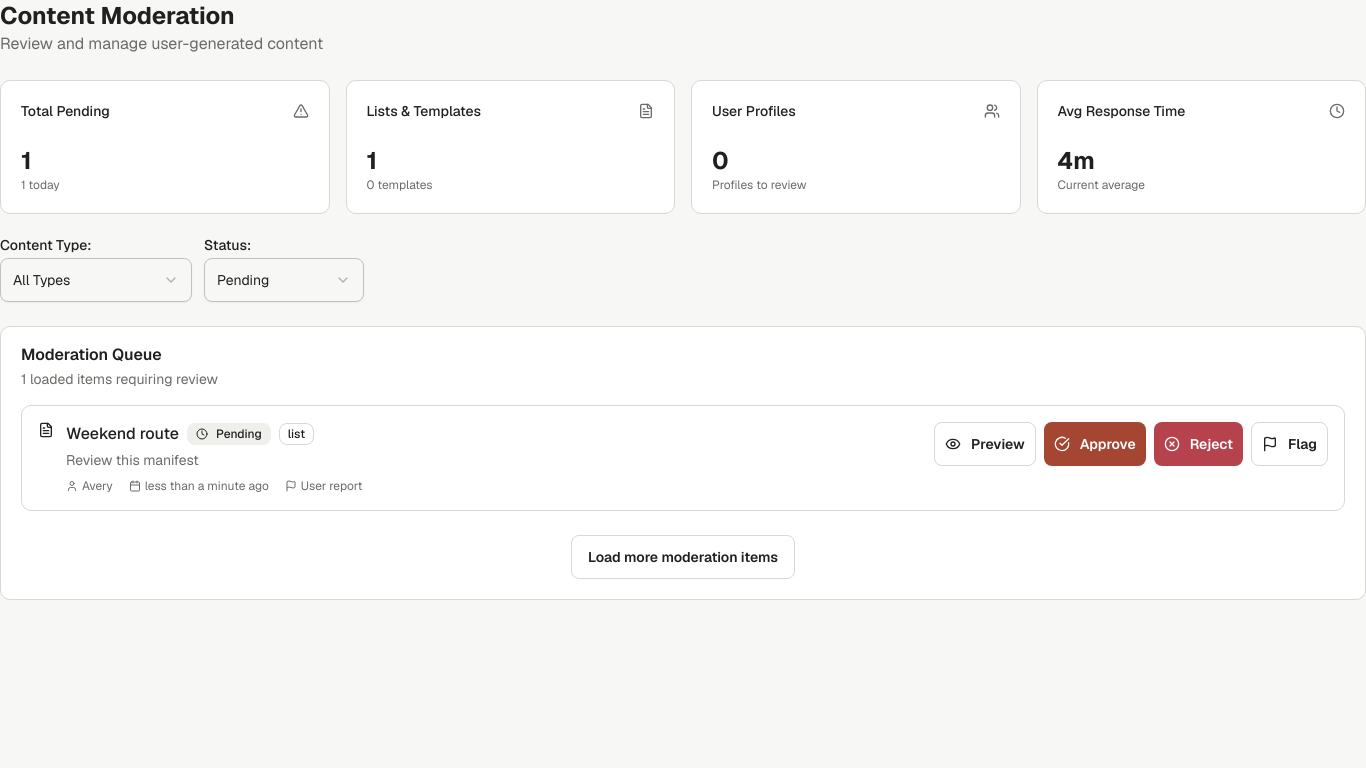
ModerationQueue › associates rejection and flag dialog selects with their visible labels
Click the button "Reject" at (1198, 444), box left=1154, top=422, right=1243, bottom=466
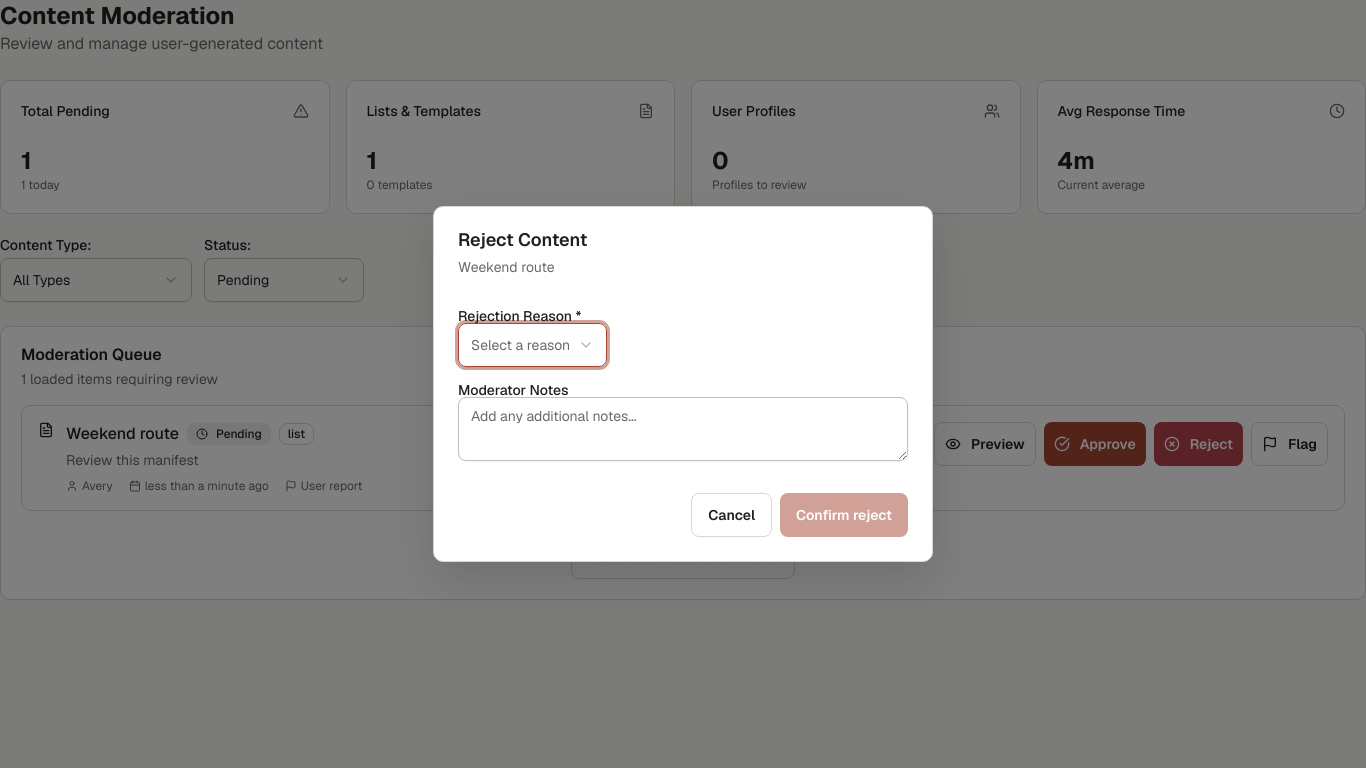
Check: the dropdown named "Rejection Reason *" is shown, box left=458, top=323, right=607, bottom=367
Click the button "Cancel" at (732, 515), box left=691, top=493, right=772, bottom=537
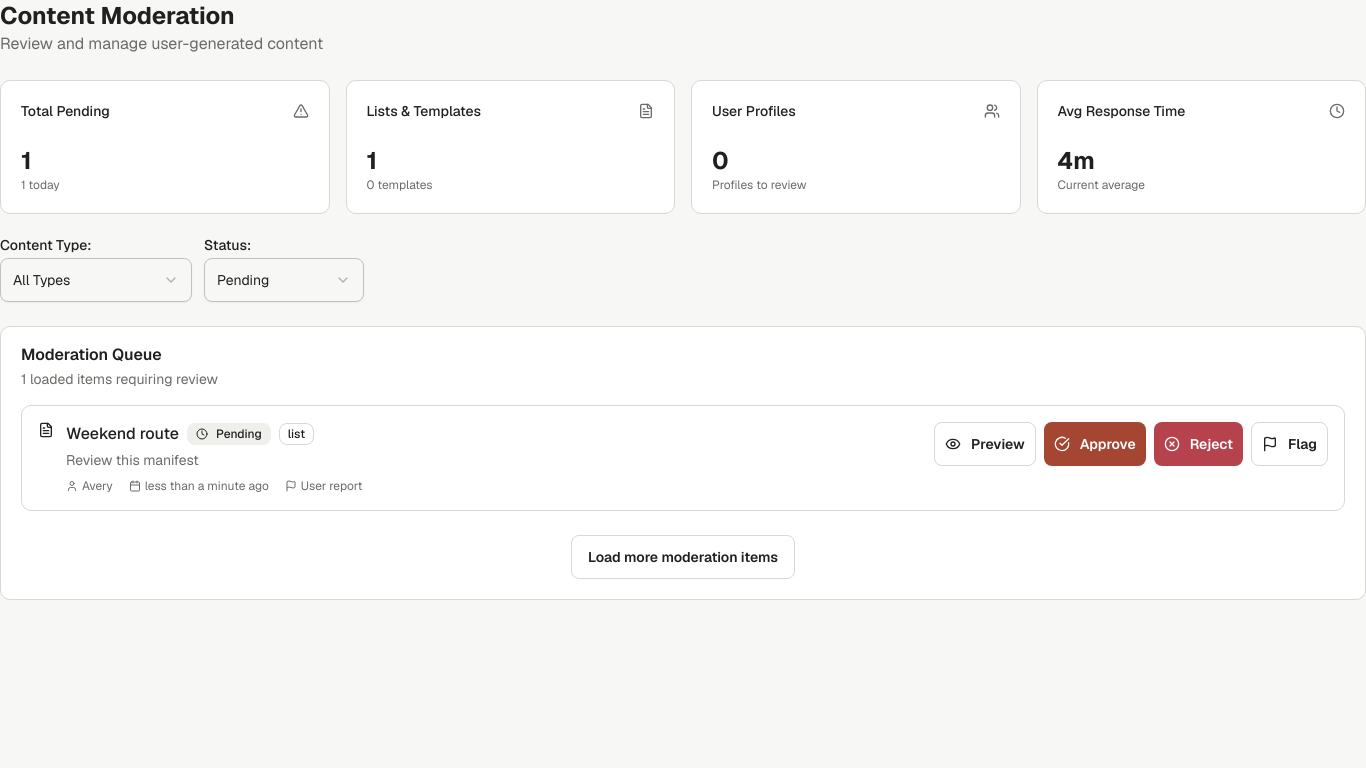
Click the button "Flag" at (1290, 444), box left=1251, top=422, right=1328, bottom=466
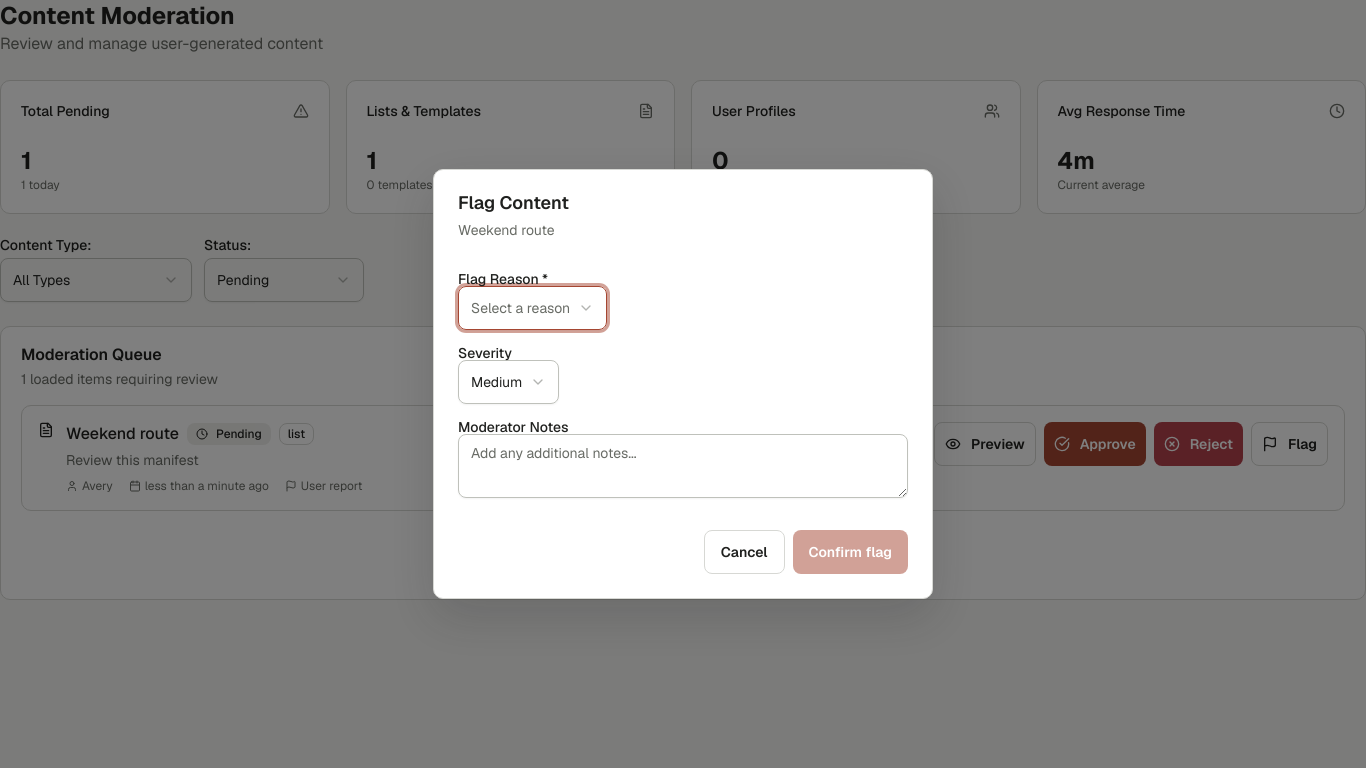
Check: the dropdown named "Flag Reason *" is shown, box left=458, top=286, right=607, bottom=330
Check: the dropdown named "Severity" is shown, box left=458, top=360, right=559, bottom=404
